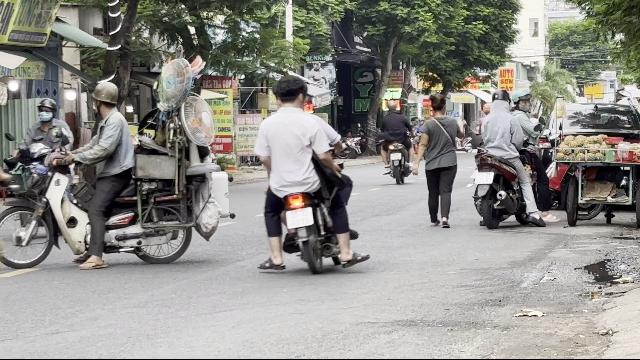helmet: (91, 80, 121, 115), (510, 88, 532, 110), (36, 98, 56, 122), (489, 88, 508, 110)
licenseplate: (286, 207, 314, 227), (475, 172, 493, 184)
motorcyclist: (0, 75, 230, 273), (254, 75, 360, 276), (0, 95, 74, 270), (468, 86, 540, 228)
nohelmet: (271, 74, 309, 109)
